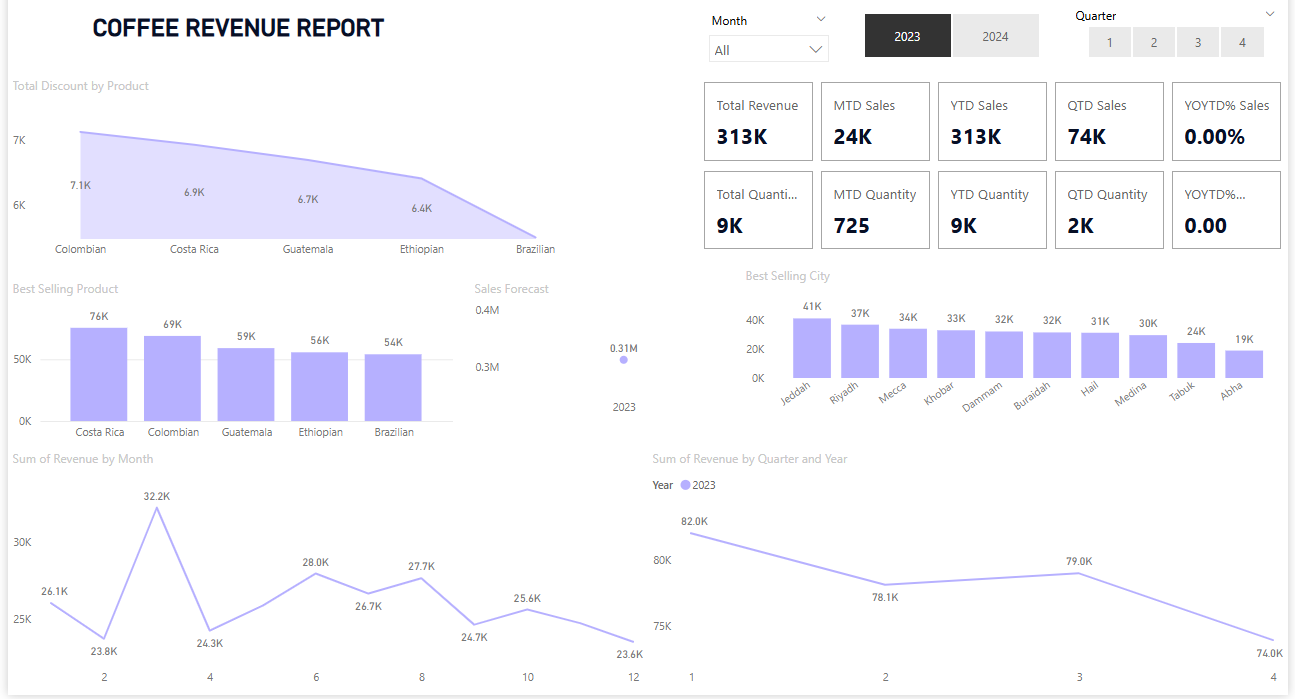

This screenshot's page, from the dashboard's own definition file:
{"tool":"powerbi","page":{"name":"Page 1","canvas":[1280,720],"ordinal":0},"visuals":[{"type":"cardVisual","fields":{"Data":["Sum(Sales.Revenue)","Metrics.MTD Sales","Metrics.YTD Sales","Metrics.QTD Sales","Metrics.YOYTD%"]},"box":[690.6,102.1,589.4,88.5],"z":0},{"type":"cardVisual","fields":{"Data":["Sum(Sales.Quantity)","Metrics.MTD Quantity","Metrics.YTD Quantity","Metrics.QTD Quantity","Metrics.YOYTD% Quantity Sold"]},"box":[690.6,190.6,589.4,88.5],"z":1},{"type":"lineChart","fields":{"Y":["Sum(Sales.Revenue)"],"Category":["DateTable.Month"]},"box":[0,474.7,640,245.1],"z":2},{"type":"slicer","fields":{"Values":["DateTable.Year"]},"box":[830.6,32.1,224.7,57.4],"z":3},{"type":"lineChart","fields":{"Y":["Sum(Sales.Revenue)"],"Category":["DateTable.Quarter"],"Series":["DateTable.Year"]},"box":[640,474.7,640,245.1],"z":4},{"type":"columnChart","title":"Best Selling Product","fields":{"Category":["Sales.Product"],"Y":["Sum(Sales.Revenue)"]},"box":[0,305.4,450.3,169.2],"z":5},{"type":"columnChart","title":"Best Selling City","fields":{"Y":["Sum(Sales.Revenue)"],"Category":["Sales.City"]},"box":[733.4,291.8,546.6,158.5],"z":6},{"type":"slicer","fields":{"Values":["DateTable.Month"]},"box":[690.6,32.1,140.1,57.4],"z":7},{"type":"slicer","fields":{"Values":["DateTable.Quarter"]},"box":[1055.3,27.2,224.7,62.2],"z":8},{"type":"stackedAreaChart","title":"Total Discount by Product","fields":{"Category":["Sales.Product"],"Y":["Sum(Sales.Discount_Amount)"]},"box":[0,102.1,577.8,189.7],"z":9},{"type":"textbox","box":[0,34,462,54.5],"z":10},{"type":"lineChart","title":"Sales Forecast","fields":{"Category":["DateTable.Year"],"Y":["Sum(Sales.Revenue)"]},"box":[462,305.4,271.4,144.9],"z":11}]}

Visuals, with their boxes on the page's 1280x720 design canvas (x1, y1, x2, y2). These are canvas units, not pixel positions in the 1295x699 screenshot, which may show the page scaled, cropped or inside an application window:
cardVisual - Sum(Sales.Revenue) x Metrics.MTD Sales: x1=691, y1=102, x2=1280, y2=191
cardVisual - Sum(Sales.Quantity) x Metrics.MTD Quantity: x1=691, y1=191, x2=1280, y2=279
lineChart - Sum(Sales.Revenue) x DateTable.Month: x1=0, y1=475, x2=640, y2=720
slicer - DateTable.Year: x1=831, y1=32, x2=1055, y2=90
lineChart - Sum(Sales.Revenue) x DateTable.Quarter: x1=640, y1=475, x2=1280, y2=720
"Best Selling Product" columnChart: x1=0, y1=305, x2=450, y2=475
"Best Selling City" columnChart: x1=733, y1=292, x2=1280, y2=450
slicer - DateTable.Month: x1=691, y1=32, x2=831, y2=90
slicer - DateTable.Quarter: x1=1055, y1=27, x2=1280, y2=89
"Total Discount by Product" stackedAreaChart: x1=0, y1=102, x2=578, y2=292
textbox: x1=0, y1=34, x2=462, y2=88
"Sales Forecast" lineChart: x1=462, y1=305, x2=733, y2=450
